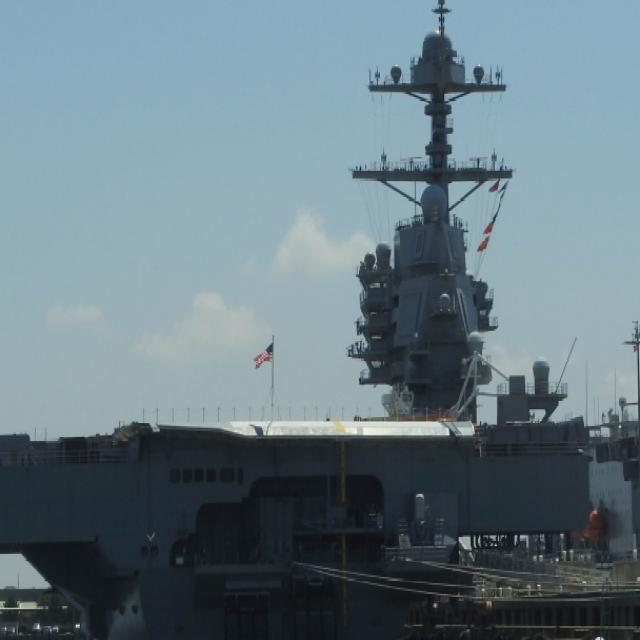Portanaves: (1, 1, 600, 640)
